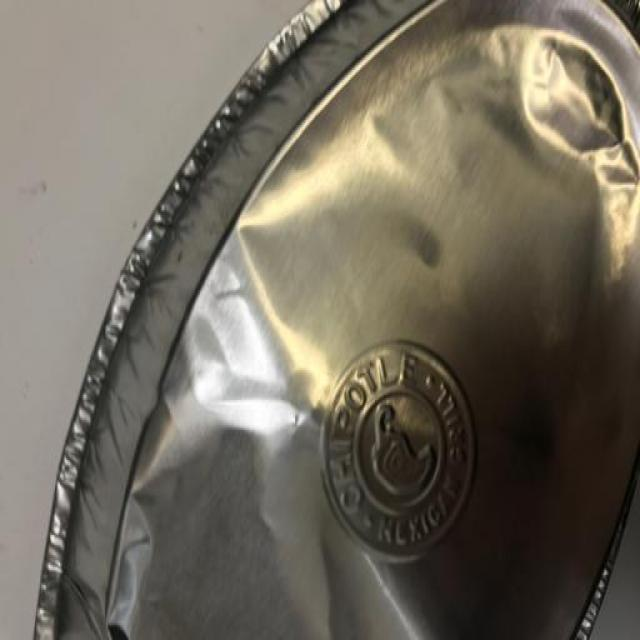metel: (8, 1, 640, 640)
